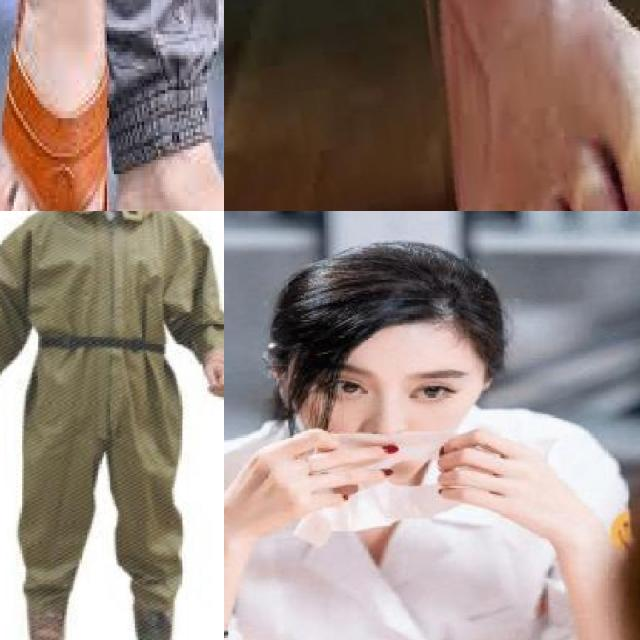Barefoots: (413, 0, 640, 211)
Sandals: (0, 0, 111, 211)
face_nomask: (310, 348, 481, 486)
hand_noglove: (238, 428, 399, 522), (436, 428, 570, 528), (198, 354, 224, 397)
head_nohelmet: (258, 228, 510, 364)
person: (224, 227, 640, 640), (0, 211, 224, 640)
